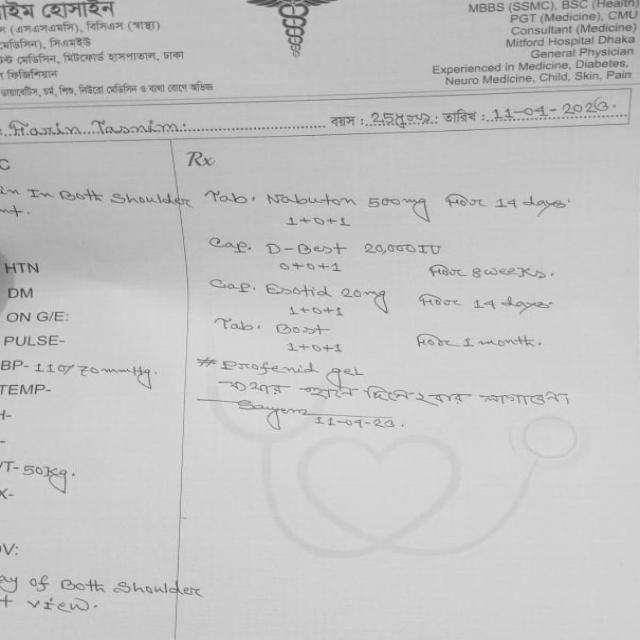medicine: (258, 185, 363, 211), (256, 236, 362, 260), (258, 274, 336, 304), (268, 315, 332, 341)
